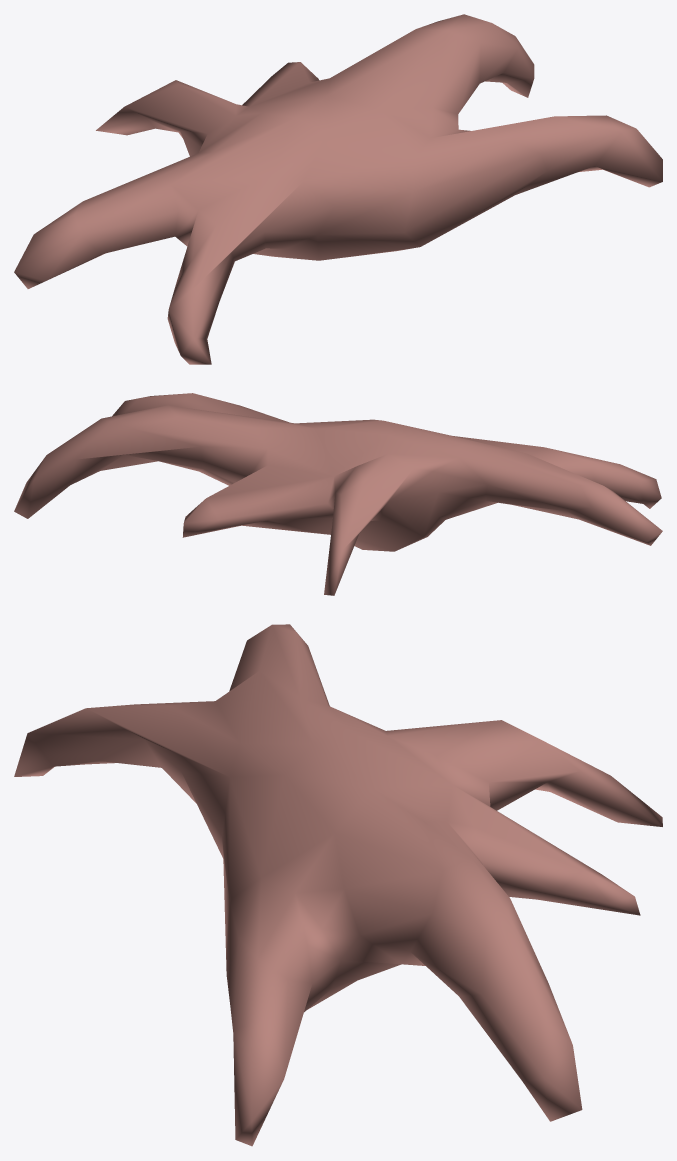
Rendered from SM_Humunculos_1.fbx.
The picture shows the model from 3 angles, top to bottom: view 1: azimuth 30°, elevation 25°; view 2: azimuth 150°, elevation 25°; view 3: azimuth 270°, elevation 25°; orthographic projection. The views are drawn at different scales.
Parts seen in each view (by area): view 1: SM_Humunculos_1; view 2: SM_Humunculos_1; view 3: SM_Humunculos_1.
Part boxes in pixels (x1,y1,x2,y2): SM_Humunculos_1: [14, 14, 662, 364]; SM_Humunculos_1: [14, 393, 662, 595]; SM_Humunculos_1: [14, 624, 662, 1146].
Size of the model in its own units: 37.22 by 8.23 by 23.8.
